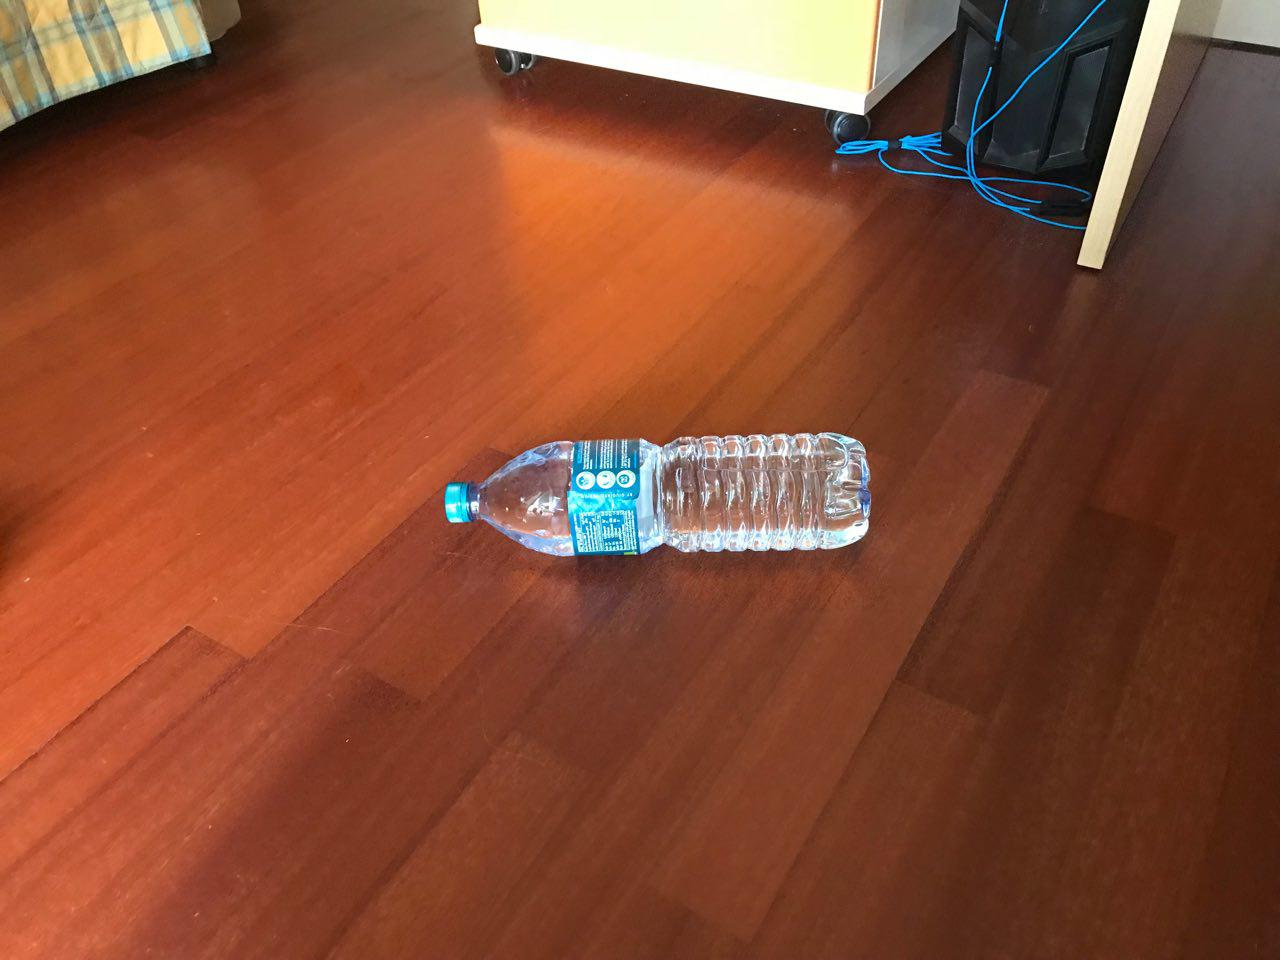san_bernardo: (441, 429, 873, 559)
